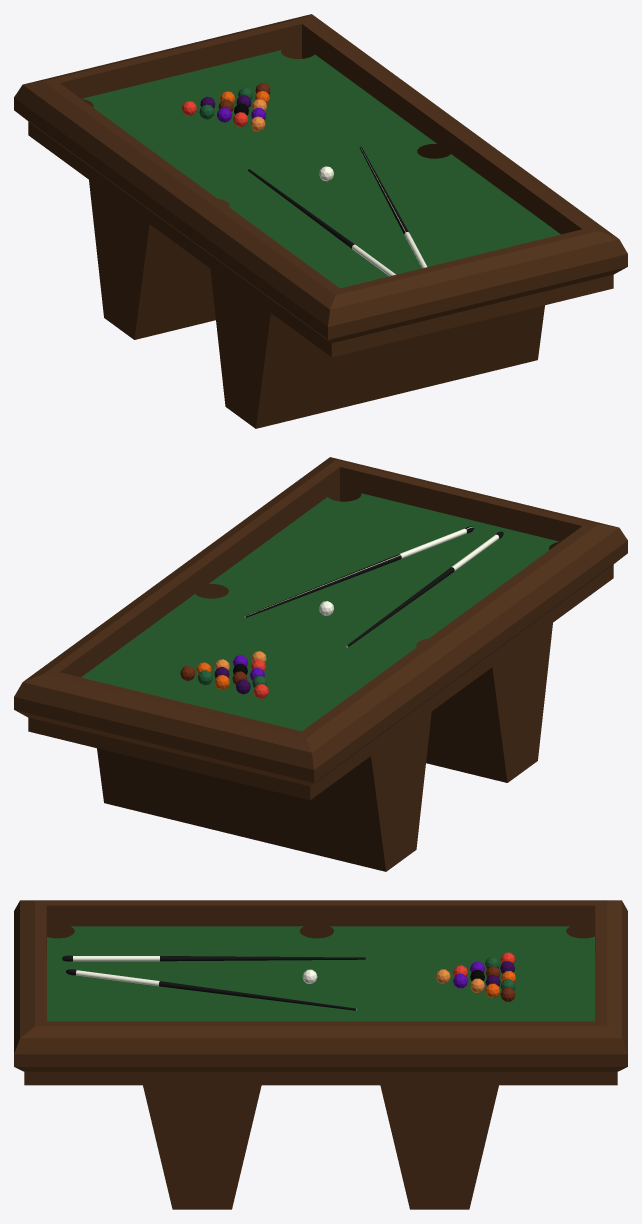
The model's file is 8ball.glb.
The picture shows the model from 3 angles, top to bottom: view 1: azimuth 30°, elevation 25°; view 2: azimuth 150°, elevation 25°; view 3: azimuth 270°, elevation 25°; orthographic projection. The views are drawn at different scales.
Parts seen in each view (by area): view 1: Table-col, TableTop-col, Objects-col; view 2: Table-col, TableTop-col, Objects-col; view 3: Table-col, TableTop-col, Objects-col.
Part boxes in pixels (x1,y1,x2,y2): Table-col: (14,14,627,428); TableTop-col: (82,50,560,288); Objects-col: (182,83,427,276); Table-col: (14,457,627,871); TableTop-col: (81,493,558,731); Objects-col: (180,526,503,698); Table-col: (14,900,627,1209); TableTop-col: (47,926,594,1021); Objects-col: (62,952,516,1010).
Size of what is drawn, in the model's own units: 3.81 by 2.22 by 6.9.
